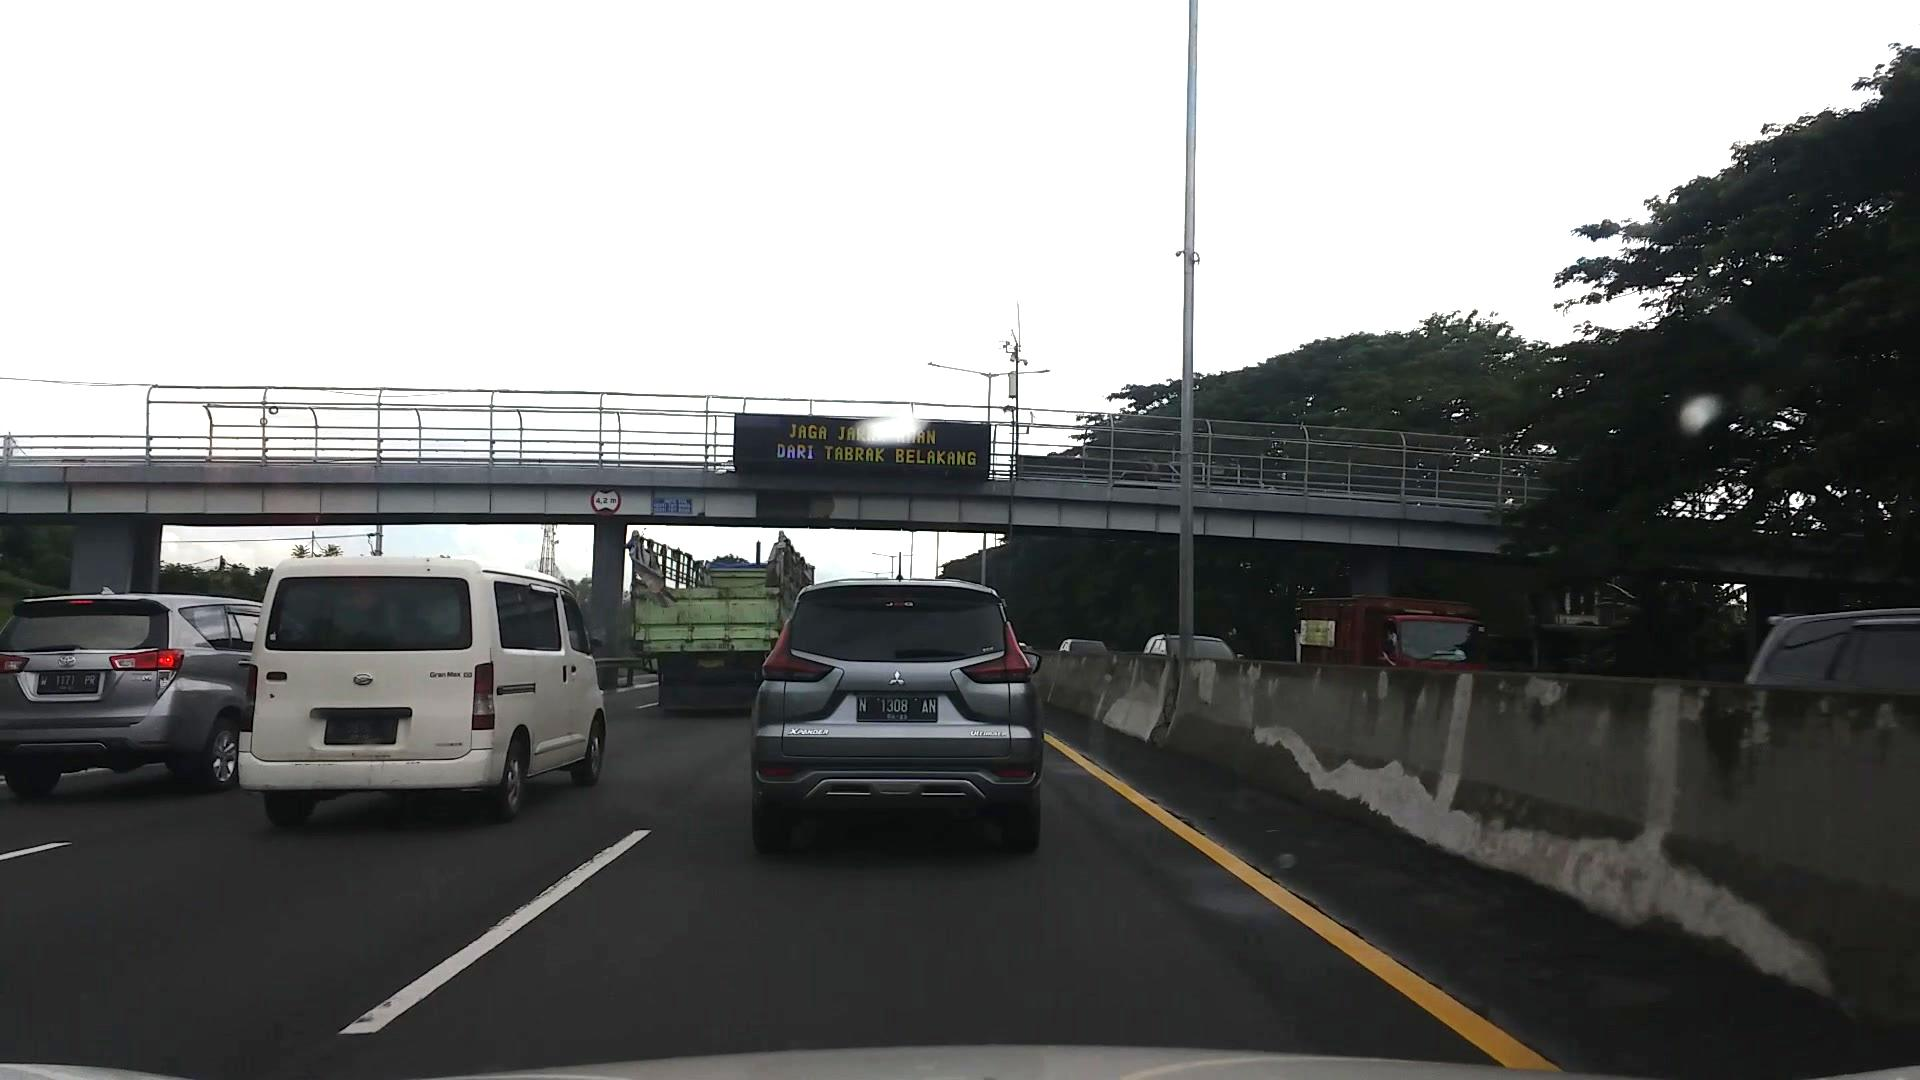plate_positive: (857, 694, 939, 723)
